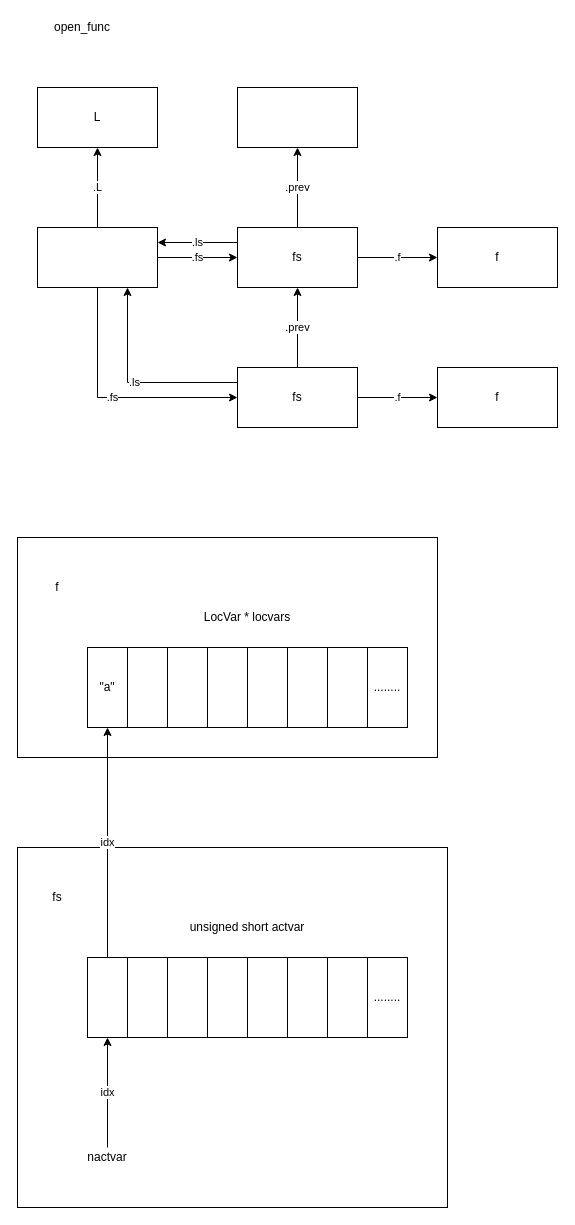
Image size: 575x1225. Some labels were removed from this diagram. Here are the shapes that lost their labels. From the top down, the box of each, then its label:
(236, 86, 358, 148): NULL
(36, 226, 158, 288): ls
(86, 956, 128, 1038): val
